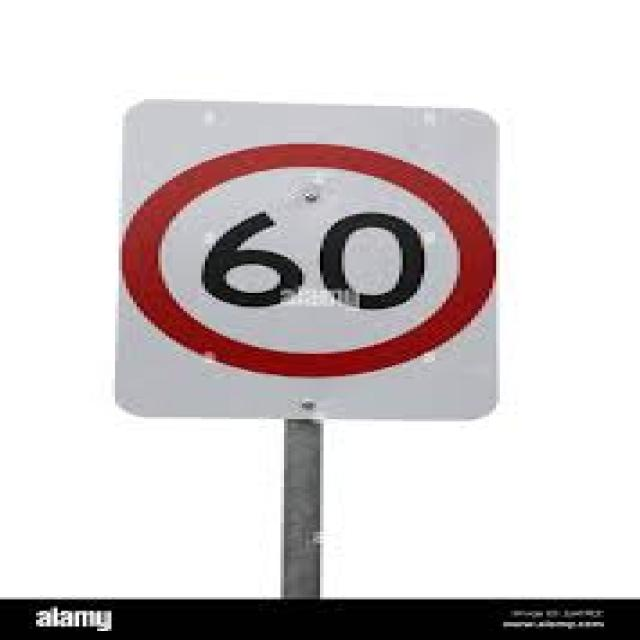speed_60: (116, 144, 497, 379)
